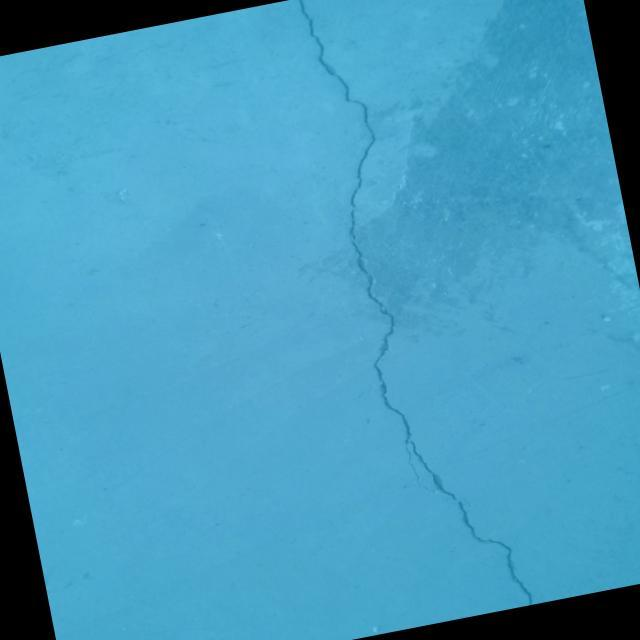crack: (295, 0, 534, 627)
